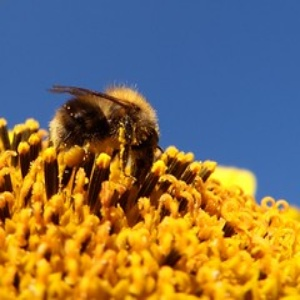bee: (49, 80, 162, 176)
